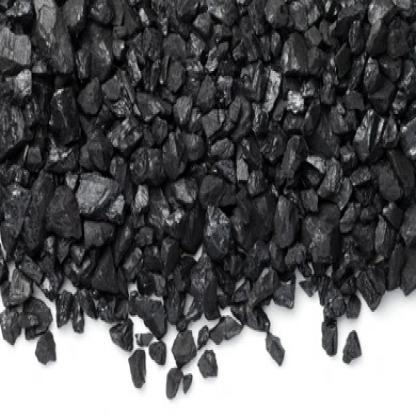Sedimentary_coal: (30, 0, 79, 75), (73, 157, 116, 214), (46, 176, 85, 232), (249, 63, 288, 117), (134, 283, 167, 334), (2, 25, 33, 71)
